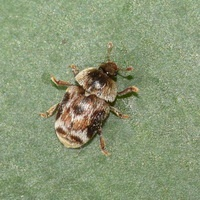insect: (39, 42, 138, 155)
